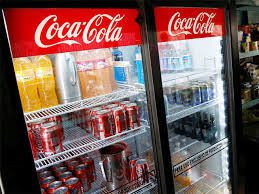coke-can: (130, 163, 155, 189), (39, 127, 62, 155), (93, 110, 112, 136), (75, 169, 94, 192), (127, 102, 142, 131), (114, 107, 126, 134)
